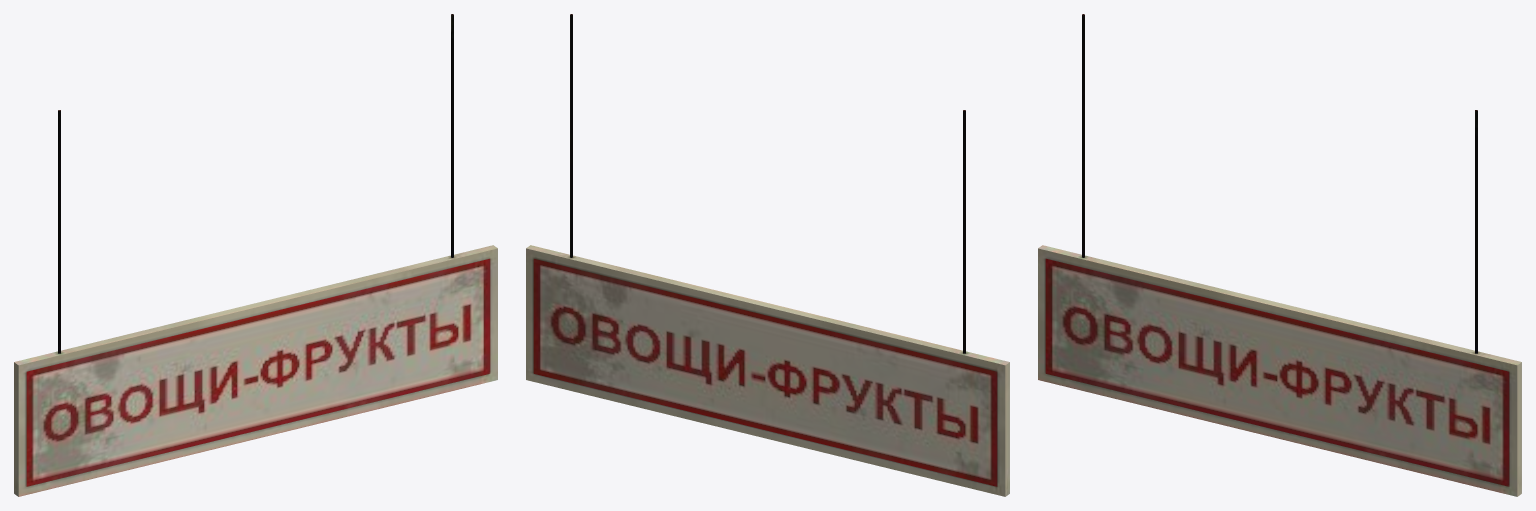
The model's file is sign_ovoshchi_lod1_web.glb.
3 renders of one model, left to right at view 1: azimuth 30°, elevation 25°; view 2: azimuth 150°, elevation 25°; view 3: azimuth 330°, elevation 25°, orthographic.
Parts seen in each view (by area): view 1: SignOvoshchi_Body; view 2: SignOvoshchi_Body; view 3: SignOvoshchi_Body.
Boxes of the visible parts, x1,y1,x2,y2 form: SignOvoshchi_Body: (14, 14, 497, 496); SignOvoshchi_Body: (526, 14, 1009, 496); SignOvoshchi_Body: (1038, 14, 1521, 496).
Bounding box in the file's own units: 1.22 × 0.91 × 0.021.
Materials: 1 (1 with a texture image).
